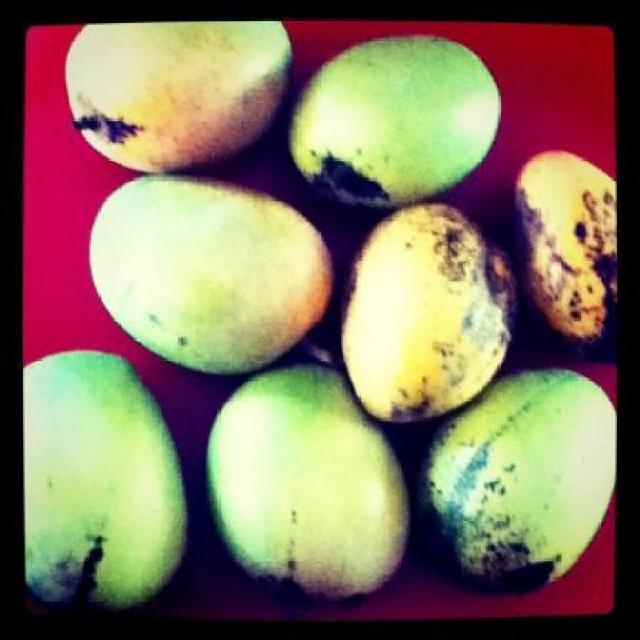Mango: (65, 25, 618, 603), (84, 167, 342, 385), (24, 353, 184, 615), (517, 150, 621, 347)
